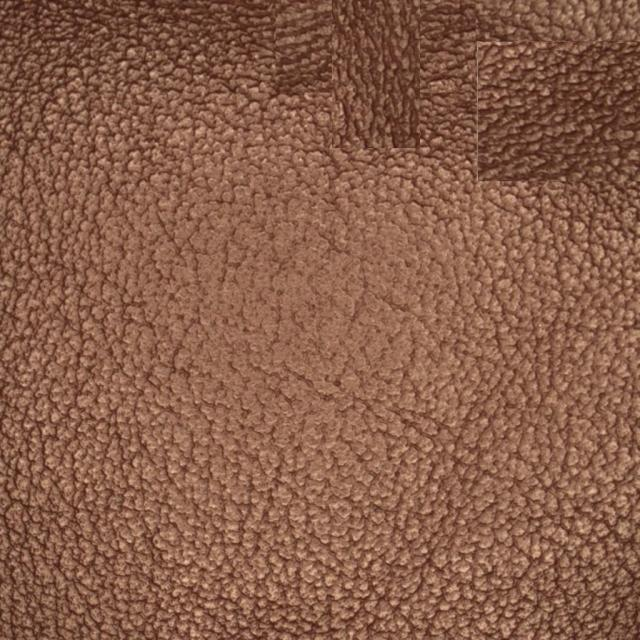Healed Injury: (310, 13, 619, 202)
